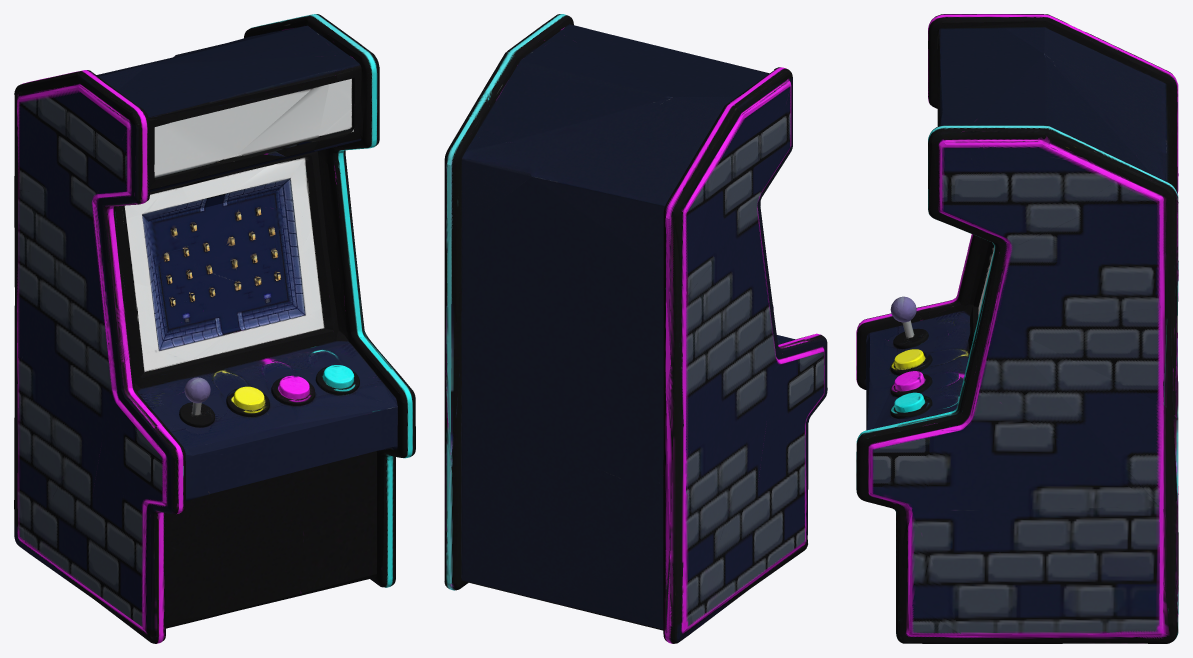
Rendered from maquina-principal.glb.
3 renders of one model, left to right at view 1: azimuth 30°, elevation 25°; view 2: azimuth 150°, elevation 25°; view 3: azimuth 270°, elevation 25°, orthographic. The views are drawn at different scales.
Parts seen in each view (by area): view 1: Mesh_0; view 2: Mesh_0; view 3: Mesh_0.
Boxes of the visible parts, box(x1,y1,x2,y2) form: Mesh_0: box(14, 14, 415, 643); Mesh_0: box(444, 14, 827, 643); Mesh_0: box(856, 14, 1178, 643).
Size of the model in its own units: 0.9587 by 1.9 by 1.08.
Materials: 1 (1 with a texture image).
